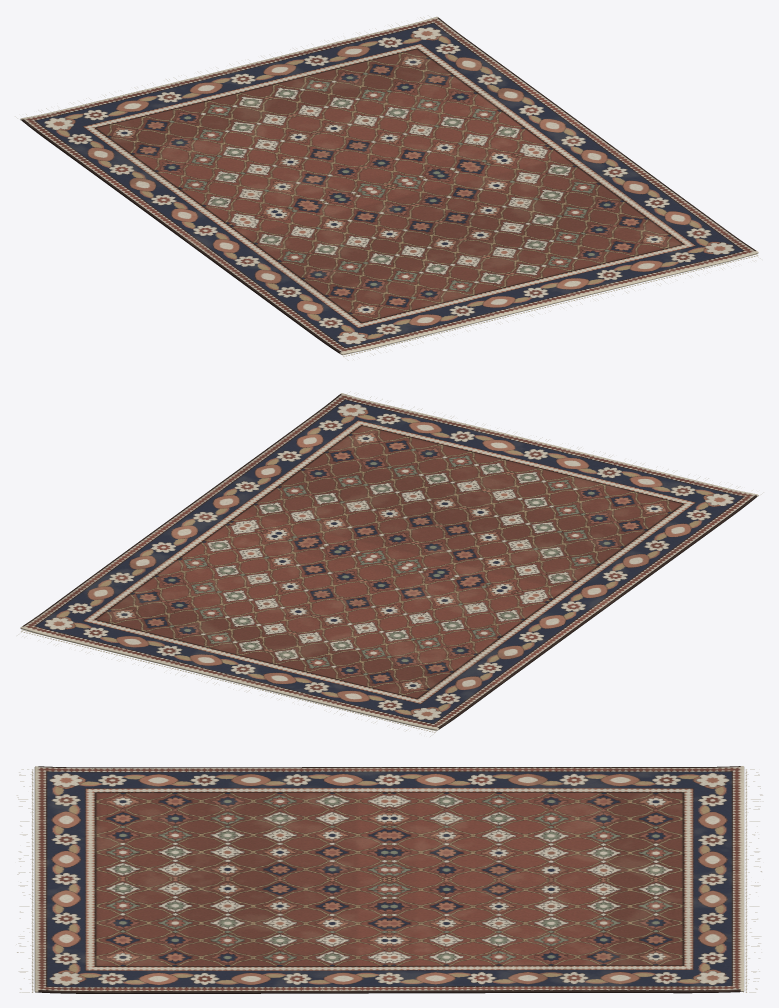
The model's file is rug-vinton-rust.b0ec1c5c.glb.
3 renders of one model, top to bottom at view 1: azimuth 30°, elevation 25°; view 2: azimuth 150°, elevation 25°; view 3: azimuth 270°, elevation 25°, orthographic. The views are drawn at different scales.
Parts seen in each view (by area): view 1: rug-vinton-rust, rug-vinton-rust-fringe; view 2: rug-vinton-rust, rug-vinton-rust-fringe; view 3: rug-vinton-rust, rug-vinton-rust-fringe.
Boxes of the visible parts, x1,y1,x2,y2 form: rug-vinton-rust: (20,16,758,354); rug-vinton-rust-fringe: (15,15,760,360); rug-vinton-rust: (20,393,758,730); rug-vinton-rust-fringe: (17,391,763,736); rug-vinton-rust: (34,766,744,993); rug-vinton-rust-fringe: (16,769,763,992).
Bounding box in the file's own units: 2.1 × 0.0175 × 2.96.
Materials: 2 (2 with a texture image).
